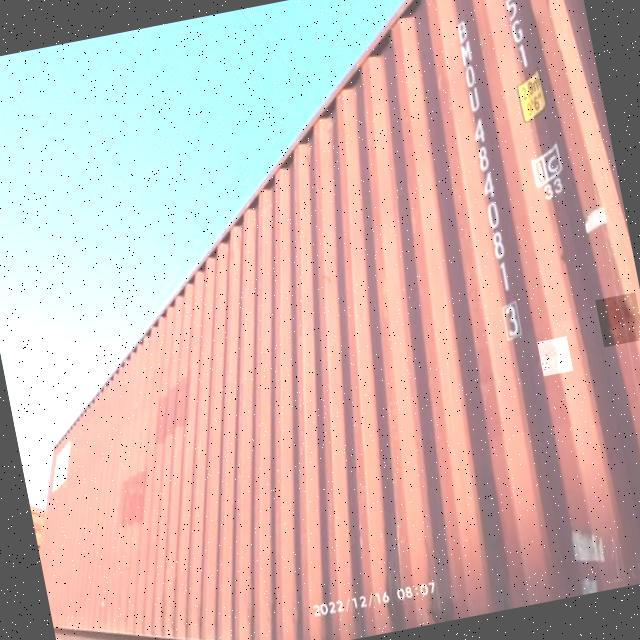Minor-Dent: (595, 292, 640, 349), (537, 337, 573, 377)
